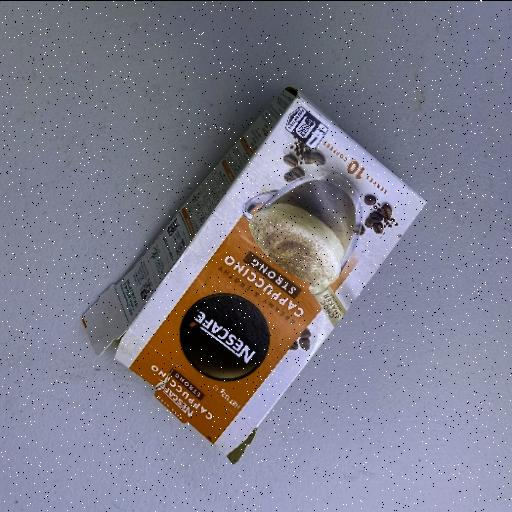Cardboard: (80, 83, 428, 463)
